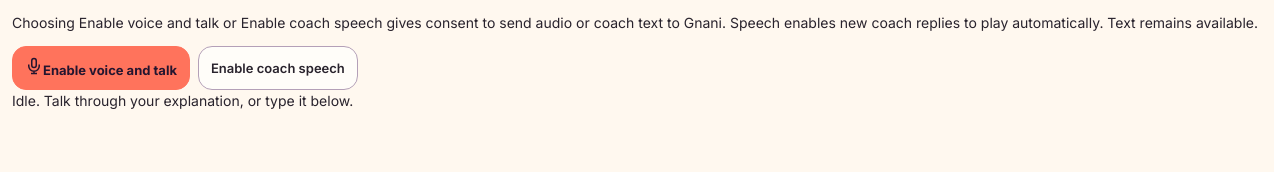
voice-first controls and consent › shows one cancel control while transcribing and aborts without applying a late result
The image size is (1274, 172).
Click the button "Enable voice and talk". click: (101, 68)
box: [12,46,190,90]
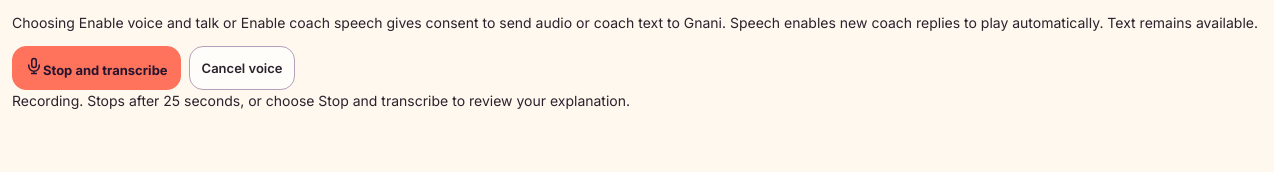
Result: the button "Stop and transcribe" is shown
Click the button "Stop and transcribe". click: (96, 68)
box: [12,46,181,90]
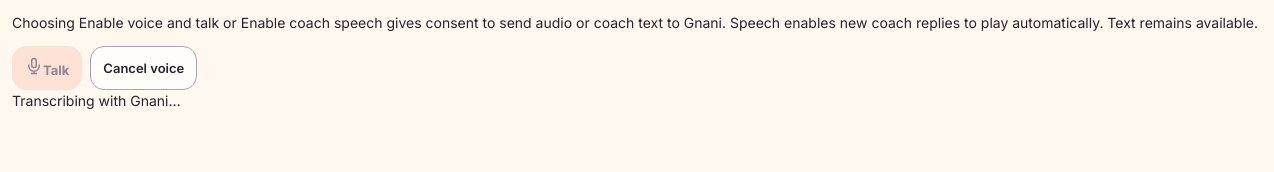
Result: the message reads "Transcribing with Gnani…" at [12,92,181,109]
Click the button "Cancel voice". click: (144, 68)
box: [90,46,197,90]
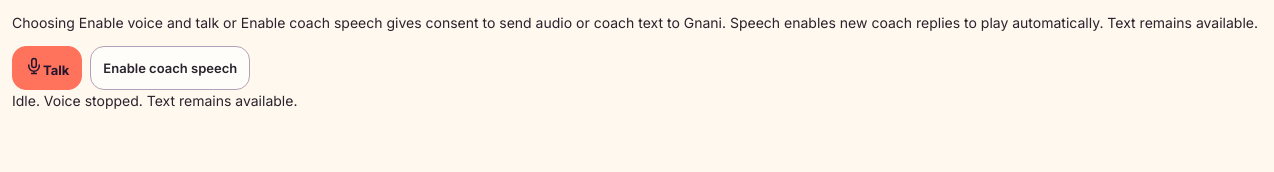
Result: the message reads "Idle. Voice stopped. Text remains available." at [12,92,297,109]
